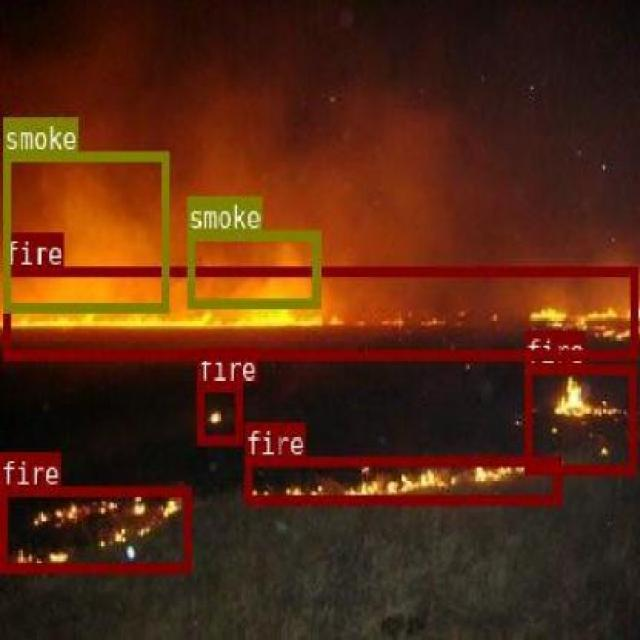CIV_Plane: (1, 266, 636, 359), (0, 485, 191, 570), (244, 455, 558, 503), (522, 363, 636, 474), (196, 380, 241, 443)
Fire: (1, 266, 636, 359), (0, 485, 191, 570), (244, 455, 558, 503), (522, 363, 636, 474), (196, 380, 241, 443)
Smoke: (34, 182, 134, 278), (216, 232, 285, 302)
